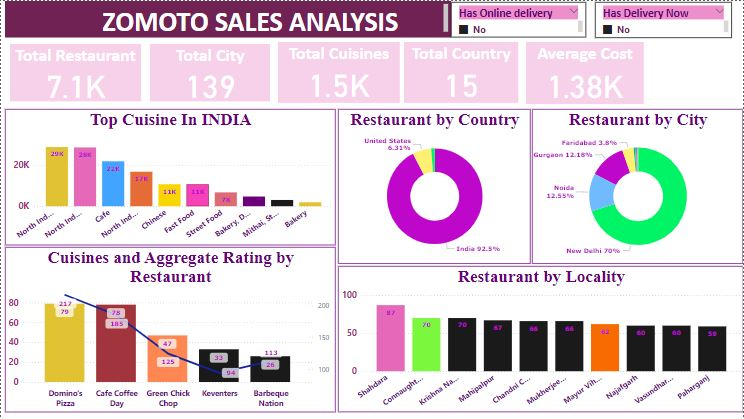

This screenshot's page, from the dashboard's own definition file:
{"tool":"powerbi","page":{"name":"Page 2","canvas":[1280,720],"ordinal":1},"visuals":[{"type":"card","title":"Total Cuisines","fields":{"Values":["Count(Clean Zamoto Data.Cuisines)"]},"box":[478.1,70.6,210.2,105.1],"z":0},{"type":"card","title":"Total City","fields":{"Values":["Count(Clean Zamoto Data.City)"]},"box":[256.3,73.4,207.4,99.4],"z":1000},{"type":"card","title":"Average Cost","fields":{"Values":["Avg(Clean Zamoto Data.Average Cost for two)"]},"box":[905.8,70.6,203,106.6],"z":2000},{"type":"card","title":"Total Country","fields":{"Values":["Count(Clean Zamoto Data.Country)"]},"box":[694.1,70.6,197.3,105.1],"z":3000},{"type":"card","title":"Total Restaurant","fields":{"Values":["CountNonNull(Clean Zamoto Data.Restaurant Name)"]},"box":[15.8,73.4,226.1,99.4],"z":4000},{"type":"clusteredColumnChart","title":"Restaurant by Locality","fields":{"Category":["Clean Zamoto Data.Locality"],"Y":["CountNonNull(Clean Zamoto Data.Restaurant Name)"]},"box":[581,456.3,699,252.4],"z":5000},{"type":"donutChart","title":"Restaurant by Country","fields":{"Category":["Clean Zamoto Data.Country"],"Y":["CountNonNull(Clean Zamoto Data.Restaurant Name)"]},"box":[580.9,186.1,331.7,267],"z":6000},{"type":"donutChart","title":"Restaurant by City","fields":{"Category":["Clean Zamoto Data.City"],"Y":["CountNonNull(Clean Zamoto Data.Restaurant Name)"]},"box":[915.8,186.1,364,267],"z":7000},{"type":"textbox","box":[6.5,0,768.5,63.1],"z":8000},{"type":"slicer","fields":{"Values":["Clean Zamoto Data.Has Online delivery"]},"box":[775,1.6,233,61.5],"z":9000},{"type":"slicer","fields":{"Values":["Clean Zamoto Data.Is delivering now"]},"box":[1023.8,1.4,236.2,61.9],"z":10000},{"type":"clusteredColumnChart","title":"Top Cuisine In INDIA","fields":{"Category":["Clean Zamoto Data.Cuisines"],"Y":["Sum(Clean Zamoto Data.Votes)"]},"box":[6.5,186.1,569.5,234.6],"z":11000},{"type":"lineStackedColumnComboChart","title":"Cuisines and Aggregate Rating by Restaurant","fields":{"Category":["Clean Zamoto Data.Restaurant Name"],"Y":["CountNonNull(Clean Zamoto Data.Cuisines)"],"Y2":["Sum(Clean Zamoto Data.Aggregate rating)"]},"box":[6.5,423.9,569.5,284.8],"z":12000}]}

Visuals, with their boxes in screenshot pixels (x1, y1, x2, y2), scaled from the page's 1280x720 canvas onto the 744x419 screenshot:
"Total Cuisines" card: bbox=[278, 41, 400, 102]
"Total City" card: bbox=[149, 43, 270, 101]
"Average Cost" card: bbox=[526, 41, 644, 103]
"Total Country" card: bbox=[403, 41, 518, 102]
"Total Restaurant" card: bbox=[9, 43, 141, 101]
"Restaurant by Locality" clusteredColumnChart: bbox=[338, 266, 743, 412]
"Restaurant by Country" donutChart: bbox=[338, 108, 530, 264]
"Restaurant by City" donutChart: bbox=[532, 108, 743, 264]
textbox: bbox=[4, 0, 450, 37]
slicer - Clean Zamoto Data.Has Online delivery: bbox=[450, 1, 586, 37]
slicer - Clean Zamoto Data.Is delivering now: bbox=[595, 1, 732, 37]
"Top Cuisine In INDIA" clusteredColumnChart: bbox=[4, 108, 335, 245]
"Cuisines and Aggregate Rating by Restaurant" lineStackedColumnComboChart: bbox=[4, 247, 335, 412]
